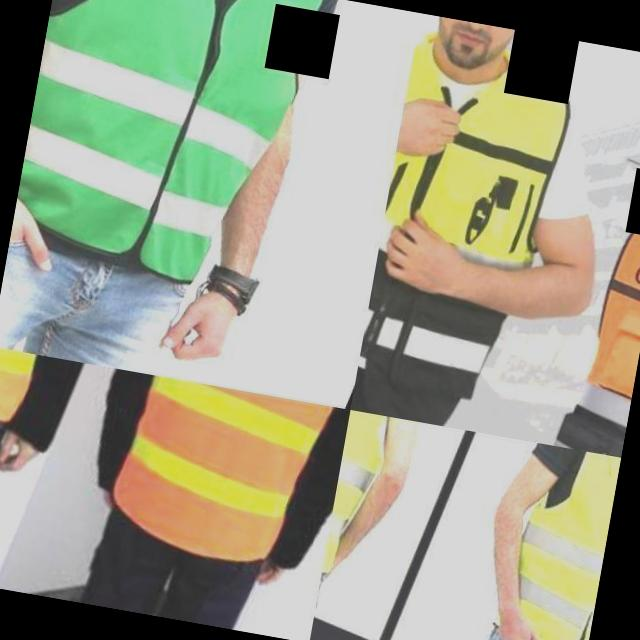vest: (6, 0, 351, 309), (374, 13, 603, 305), (73, 366, 350, 594), (478, 439, 621, 640), (538, 189, 640, 457)
